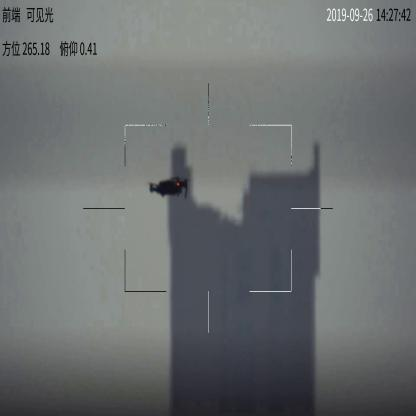uav: (144, 176, 192, 202)
